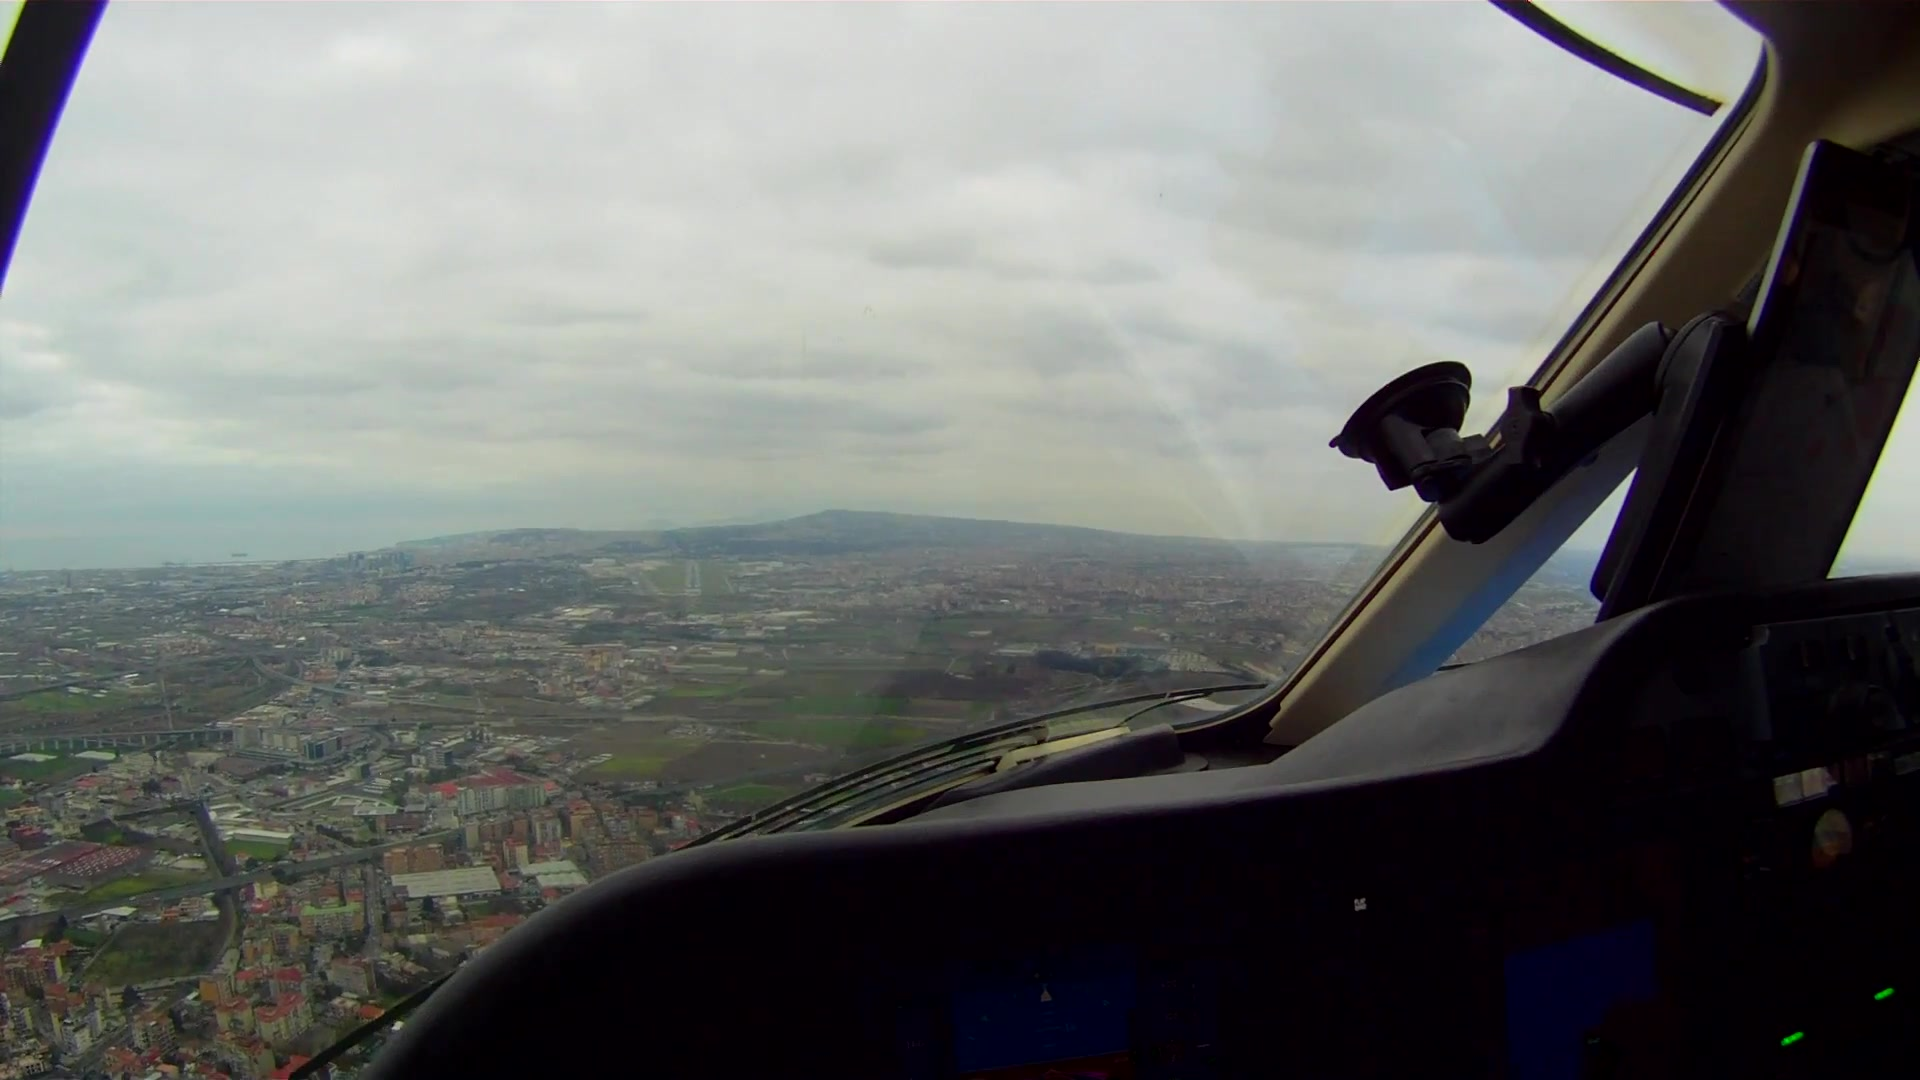runway: (684, 560, 704, 589)
